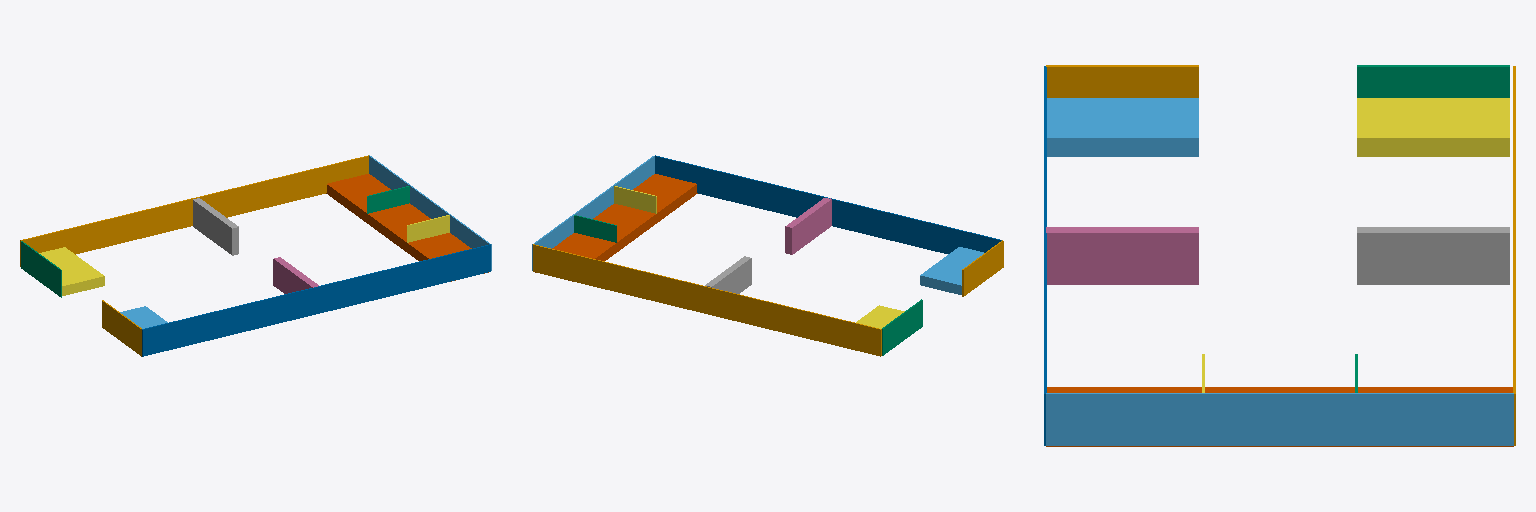
URDF robot description (brsu-c025-arena):
<?xml version="1.0"?>
<!--

									Wall 1
					________________________________________
			Wall 7	||  |              |              |    ||
					||__| Wall 8       | Wall 5       |_11_||
													  |    || Wall 2
					  __                      wall 10 |_12_|| 
					||  | Wall 9       | Wall 4       |    ||
			Wall 6	||__|______________|______________|____||
									Wall 3
-->

<robot name="brsu-c025-arena">

  	<link name="wall_1">
    		<inertial>
      			<origin xyz="0.0 1.22 0.0" /> 
      			<mass value="10.0" />
      			<inertia  ixx="1.0" ixy="0.0"  ixz="0.0"  iyy="1.0"  iyz="0.0"  izz="1.0" />
    		</inertial>
    		<visual>
      			<origin xyz="0.0 1.22 0.0"/>
      			<geometry>
        			<box size="4.04 0.015 0.3" />
      			</geometry>
    		</visual>
    		<collision>
      			<origin xyz="0.0 1.22 0.0"/>
      		<geometry>
        		<box size="4.04 0.015 0.3" />
      		</geometry>
    		</collision>
  	</link>

	<joint name="join1" type="fixed">
    		<origin xyz="2.02 0 0" rpy="0 0 0"/>
    		<parent link="wall_1"/>
    		<child link="wall_2"/>
  	</joint>

    	<link name="wall_2">
    		<inertial>
      			<origin xyz="0 0 0" /> 
      			<mass value="10.0" />
      			<inertia  ixx="1.0" ixy="0.0"  ixz="0.0"  iyy="1.0"  iyz="0.0"  izz="1.0" />
    		</inertial>
    		<visual>
      			<origin xyz="0 0 0"/>
      			<geometry>
        			<box size="0.015 -2.44 0.3" />
      			</geometry>
    		</visual>
    		<collision>
      			<origin xyz="0 0 0"/>
      			<geometry>
        			<box size="0.015 -2.44 0.3" />
      			</geometry>
    		</collision>
  	</link>
  	
  	<joint name="join11" type="fixed">
    		<origin xyz="-0.25 0.4 0.05" rpy="0 0 0"/>
    		<parent link="wall_2"/>
    		<child link="wall_11"/>
  	</joint>
  	
  	<link name="wall_11">
		<inertial>
			<origin xyz="0 0 0" />
			<mass value="10.0" />
			<inertia ixx="1.0" ixy="0.0"  ixz="0.0"  iyy="1.0"  iyz="0.0"  izz="1.0" />
		</inertial>
		<visual>
			<origin xyz="0 0 0" />
			<geometry>
				<box size="0.5 0.015 0.19" />
			</geometry>
		</visual>
		<collision>
			<origin xyz="0 0 0" />
			<geometry>
				<box size="0.5 0.015 0.19" />
			</geometry>
		</collision>
  	</link>
  	
  	<joint name="join12" type="fixed">
    		<origin xyz="-0.25 -0.4 0.05" rpy="0 0 0"/>
    		<parent link="wall_2"/>
    		<child link="wall_12"/>
  	</joint>
  	
  	<link name="wall_12">
		<inertial>
			<origin xyz="0 0 0" />
			<mass value="10.0" />
			<inertia ixx="1.0" ixy="0.0"  ixz="0.0"  iyy="1.0"  iyz="0.0"  izz="1.0" />
		</inertial>
		<visual>
			<origin xyz="0 0 0" />
			<geometry>
				<box size="0.5 0.015 0.19" />
			</geometry>
		</visual>
		<collision>
			<origin xyz="0 0 0" />
			<geometry>
				<box size="0.5 0.015 0.19" />
			</geometry>
		</collision>
  	</link>

	<joint name="join2" type="fixed">
    		<origin xyz="-2.02 -1.22 0" rpy="0 0 0"/>
    		<parent link="wall_2"/>
    		<child link="wall_3"/>
  	</joint>

	<link name="wall_3">
    		<inertial>
      			<origin xyz="0 0 0" /> 
      			<mass value="10.0" />
      			<inertia  ixx="1.0" ixy="0.0"  ixz="0.0"  iyy="1.0"  iyz="0.0"  izz="1.0" />
    		</inertial>
    		<visual>
      			<origin xyz="0 0 0"/>
      			<geometry>
        			<box size="4.04 0.015 0.3" />
      			</geometry>
    		</visual>
    		<collision>
      			<origin xyz="0 0 0"/>
      		<geometry>
        		<box size="4.04 0.015 0.3" />
      		</geometry>
    		</collision>
  	</link>

	<joint name="join10" type="fixed">
    		<origin xyz="-0.25 0.0 -0.1" rpy="0 0 0"/>
    		<parent link="wall_2"/>
    		<child link="wall_10"/>
  	</joint>

	<link name="wall_10">
    		<inertial>
      			<origin xyz="0 0 0" /> 
      			<mass value="10.0" />
      			<inertia  ixx="1.0" ixy="0.0"  ixz="0.0"  iyy="1.0"  iyz="0.0"  izz="1.0" />
    		</inertial>
    		<visual>
      			<origin xyz="0 0.0 0"/>
      			<geometry>
        			<box size="0.5 2.44 0.11" />
      			</geometry>
    		</visual>
    		<collision>
      			<origin xyz="0 0.0 0" /> 
      		<geometry>
        		<box size="0.5 2.44 0.11" />
      		</geometry>
    		</collision>
  	</link>
	
	<joint name="join3" type="fixed">
    		<origin xyz="0 -0.4 0" rpy="0 0 0"/>
    		<parent link="wall_3"/>
    		<child link="wall_4"/>
  	</joint>

	<link name="wall_4">
    		<inertial>
      			<origin xyz="0 0.8 0" /> 
      			<mass value="10.0" />
      			<inertia  ixx="1.0" ixy="0.0"  ixz="0.0"  iyy="1.0"  iyz="0.0"  izz="1.0" />
    		</inertial>
    		<visual>
      			<origin xyz="0 0.8 0"/>
      			<geometry>
        			<box size="0.08 0.8 0.3" />
      			</geometry>
    		</visual>
    		<collision>
      			<origin xyz="0 0.8 0"/>
      		<geometry>
        		<box size="0.08 0.8 0.3" />
      		</geometry>
    		</collision>
  	</link>

	<joint name="join4" type="fixed">
    		<origin xyz="0 0 0" rpy="0 0 0"/>
    		<parent link="wall_1"/>
    		<child link="wall_5"/>
  	</joint>

	<link name="wall_5">
    		<inertial>
      			<origin xyz="0 0.8 0" /> 
      			<mass value="10.0" />
      			<inertia  ixx="1.0" ixy="0.0"  ixz="0.0"  iyy="1.0"  iyz="0.0"  izz="1.0" />
    		</inertial>
    		<visual>
      			<origin xyz="0 0.8 0"/>
      			<geometry>
        			<box size="0.08 0.8 0.3" />
      			</geometry>
    		</visual>
    		<collision>
      			<origin xyz="0 0.8 0" /> 
      		<geometry>
        		<box size="0.08 0.8 0.3" />
      		</geometry>
    		</collision>
  	</link>

	<joint name="join5" type="fixed">
    		<origin xyz="-2.02 -0.4 0" rpy="0 0 0"/>
    		<parent link="wall_3"/>
    		<child link="wall_6"/>
  	</joint>

	<link name="wall_6">
    		<inertial>
      			<origin xyz="0 0.8 0" /> 
      			<mass value="10.0" />
      			<inertia  ixx="1.0" ixy="0.0"  ixz="0.0"  iyy="1.0"  iyz="0.0"  izz="1.0" />
    		</inertial>
    		<visual>
      			<origin xyz="0 0.8 0"/>
      			<geometry>
        			<box size="0.015 0.8 0.3" />
      			</geometry>
    		</visual>
    		<collision>
      			<origin xyz="0 0.8 0"/>
      		<geometry>
        		<box size="0.015 0.8 0.3" />
      		</geometry>
    		</collision>
  	</link>

	<joint name="join8" type="fixed">
    		<origin xyz="0.25 0.8 -0.085" rpy="0 0 0"/>
    		<parent link="wall_6"/>
    		<child link="wall_9"/>
  	</joint>

	<link name="wall_9">
    		<inertial>
      			<origin xyz="0.0 0.0 0.0" /> 
      			<mass value="10.0" />
      			<inertia  ixx="1.0" ixy="0.0"  ixz="0.0"  iyy="1.0"  iyz="0.0"  izz="1.0" />
    		</inertial>
    		<visual>
      			<origin xyz="0.0 0.0 0.0"/>
      			<geometry>
        			<box size="0.5 0.8 0.11" />
      			</geometry>
    		</visual>
    		<collision>
      			<origin xyz="0.0 0.0 0.0" /> 
      		<geometry>
        		<box size="0.5 0.8 0.11" />
      		</geometry>
    		</collision>
  	</link>

	<joint name="join6" type="fixed">
    		<origin xyz="-2.02 0 0" rpy="0 0 0"/>
    		<parent link="wall_1"/>
    		<child link="wall_7"/>
  	</joint>

	<link name="wall_7">
    		<inertial>
      			<origin xyz="0 0.8 0" /> 
      			<mass value="10.0" />
      			<inertia  ixx="1.0" ixy="0.0"  ixz="0.0"  iyy="1.0"  iyz="0.0"  izz="1.0" />
    		</inertial>
    		<visual>
      			<origin xyz="0 0.8 0"/>
      			<geometry>
        			<box size="0.015 0.8 0.3" />
      			</geometry>
    		</visual>
    		<collision>
      			<origin xyz="0 0.8 0" /> 
      		<geometry>
        		<box size="0.015 0.8 0.3" />
      		</geometry>
    		</collision>
  	</link>

	<joint name="join7" type="fixed">
    		<origin xyz="0.25 0.8 -0.085" rpy="0 0 0"/>
    		<parent link="wall_7"/>
    		<child link="wall_8"/>
  	</joint>

	<link name="wall_8">
    		<inertial>
      			<origin xyz="0.0 0.0 0.0" /> 
      			<mass value="10.0" />
      			<inertia  ixx="1.0" ixy="0.0"  ixz="0.0"  iyy="1.0"  iyz="0.0"  izz="1.0" />
    		</inertial>
    		<visual>
      			<origin xyz="0.0 0.0 0.0"/>
      			<geometry>
        			<box size="0.5 0.8 0.11" />
      			</geometry>
    		</visual>
    		<collision>
      			<origin xyz="0.0 0.0 0.0" /> 
      		<geometry>
        		<box size="0.5 0.8 0.11" />
      		</geometry>
    		</collision>
  	</link>


  <gazebo reference="wall_1">
	<material>Gazebo/White</material>
	<selfCollide>false</selfCollide>
  </gazebo>
  <gazebo reference="wall_2">
	<material>Gazebo/White</material>
	<selfCollide>false</selfCollide>
  </gazebo>
  <gazebo reference="wall_3">
	<material>Gazebo/White</material>
	<selfCollide>false</selfCollide>
  </gazebo>
  <gazebo reference="wall_4">
	<material>Gazebo/White</material>
	<selfCollide>false</selfCollide>
  </gazebo>
  <gazebo reference="wall_5">
	<material>Gazebo/White</material>
	<selfCollide>false</selfCollide>
  </gazebo>
  <gazebo reference="wall_6">
	<material>Gazebo/White</material>
	<selfCollide>false</selfCollide>
  </gazebo>
  <gazebo reference="wall_7">
	<material>Gazebo/White</material>
	<selfCollide>false</selfCollide>
  </gazebo>
  <gazebo reference="wall_8">
	<material>Gazebo/White</material>
	<selfCollide>false</selfCollide>
  </gazebo>
  <gazebo reference="wall_9">
	<material>Gazebo/White</material>
	<selfCollide>false</selfCollide>
  </gazebo>
  <gazebo reference="wall_10">
	<material>Gazebo/White</material>
	<selfCollide>false</selfCollide>
  </gazebo>
  <gazebo reference="wall_11">
	<material>Gazebo/White</material>
	<selfCollide>false</selfCollide>
  </gazebo>
  <gazebo reference="wall_12">
	<material>Gazebo/White</material>
	<selfCollide>false</selfCollide>
  </gazebo>
</robot>

--- Facts derived from the render (not from the file) ---
Views: 3 orthographic renders of the robot side by side, from view 1: azimuth 30°, elevation 25°; view 2: azimuth 150°, elevation 25°; view 3: azimuth 270°, elevation 25°.
Model brsu-c025-arena with 12 links and 11 joints (11 fixed), rooted at wall_1, posed all joints at 0.
Links seen in each view (by area): view 1: wall_3, wall_1, wall_10, wall_2, wall_8, wall_5, wall_7, wall_6, wall_4, wall_11, wall_12, wall_9; view 2: wall_1, wall_3, wall_10, wall_2, wall_9, wall_4, wall_6, wall_7, wall_5, wall_12, wall_11, wall_8; view 3: wall_2, wall_8, wall_9, wall_5, wall_4, wall_7, wall_6, wall_10, wall_1, wall_3.
Link boxes in pixels (<box>): wall_3: <box>142,244,490,356</box>; wall_1: <box>20,155,368,266</box>; wall_10: <box>326,174,488,281</box>; wall_2: <box>369,155,491,270</box>; wall_8: <box>39,247,104,295</box>; wall_5: <box>193,198,238,255</box>; wall_7: <box>21,241,61,297</box>; wall_6: <box>102,300,141,356</box>; wall_4: <box>273,257,318,293</box>; wall_11: <box>367,186,409,213</box>; wall_12: <box>407,215,449,242</box>; wall_9: <box>120,306,167,328</box>; wall_1: <box>533,244,881,356</box>; wall_3: <box>655,155,1001,253</box>; wall_10: <box>535,174,697,281</box>; wall_2: <box>532,156,654,270</box>; wall_9: <box>920,247,983,294</box>; wall_4: <box>785,198,831,254</box>; wall_6: <box>962,240,1003,296</box>; wall_7: <box>882,299,922,355</box>; wall_5: <box>705,256,751,293</box>; wall_12: <box>614,186,656,213</box>; wall_11: <box>574,215,616,242</box>; wall_8: <box>856,305,904,328</box>; wall_2: <box>1046,393,1513,445</box>; wall_8: <box>1357,98,1509,156</box>; wall_9: <box>1047,98,1198,156</box>; wall_5: <box>1357,227,1509,284</box>; wall_4: <box>1046,227,1198,284</box>; wall_7: <box>1357,65,1509,97</box>; wall_6: <box>1046,65,1198,97</box>; wall_10: <box>1046,387,1513,446</box>; wall_1: <box>1513,66,1515,445</box>; wall_3: <box>1044,66,1046,445</box>.
Size in the robot's own frame: 4.05 by 2.46 by 0.305 metres.
Geometry: primitives only (box / cylinder / sphere), no mesh files.
